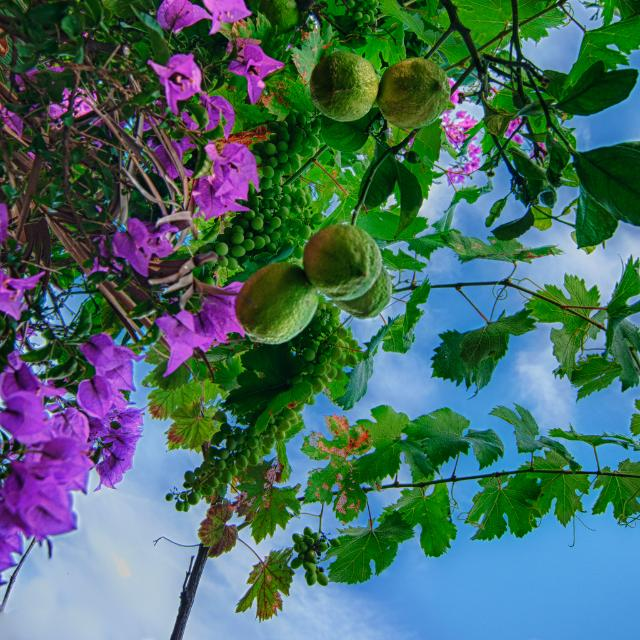Flower: (0, 0, 290, 576), (399, 79, 557, 191), (228, 46, 286, 102)
